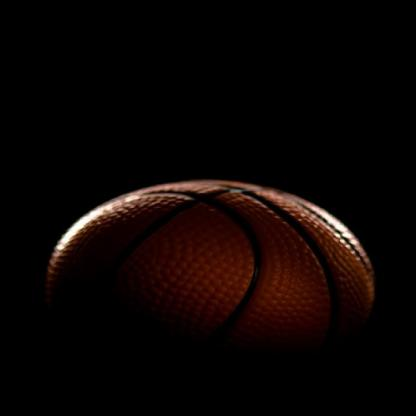basketball: (46, 174, 376, 388)
